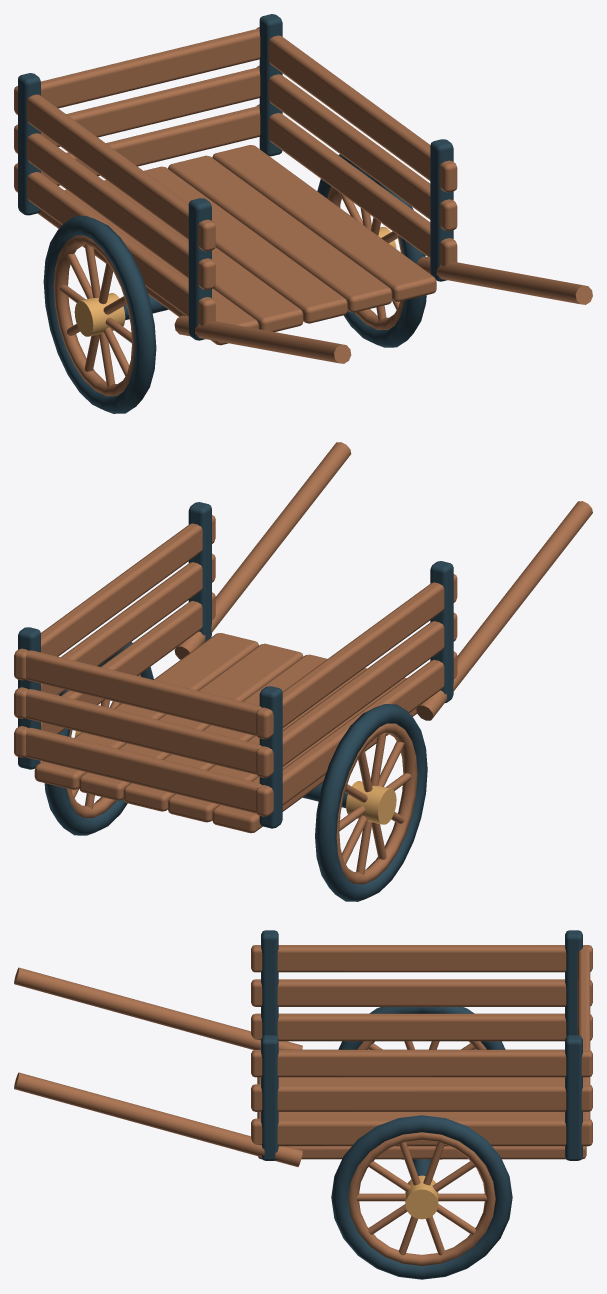
The model's file is storybook-christmas-market-spoked-market-handcart-6e8b5c98__19702.glb.
The picture shows the model from 3 angles, top to bottom: view 1: azimuth 30°, elevation 25°; view 2: azimuth 150°, elevation 25°; view 3: azimuth 270°, elevation 25°; orthographic projection. The views are drawn at different scales.
Visible parts, largest first — view 1: spoked-market-handcart; view 2: spoked-market-handcart; view 3: spoked-market-handcart.
Part boxes in pixels (x1,y1,x2,y2): spoked-market-handcart: [14, 14, 592, 413]; spoked-market-handcart: [14, 442, 592, 901]; spoked-market-handcart: [14, 930, 592, 1279].
Bounding box in the file's own units: 1.23 × 1.03 × 2.29.
